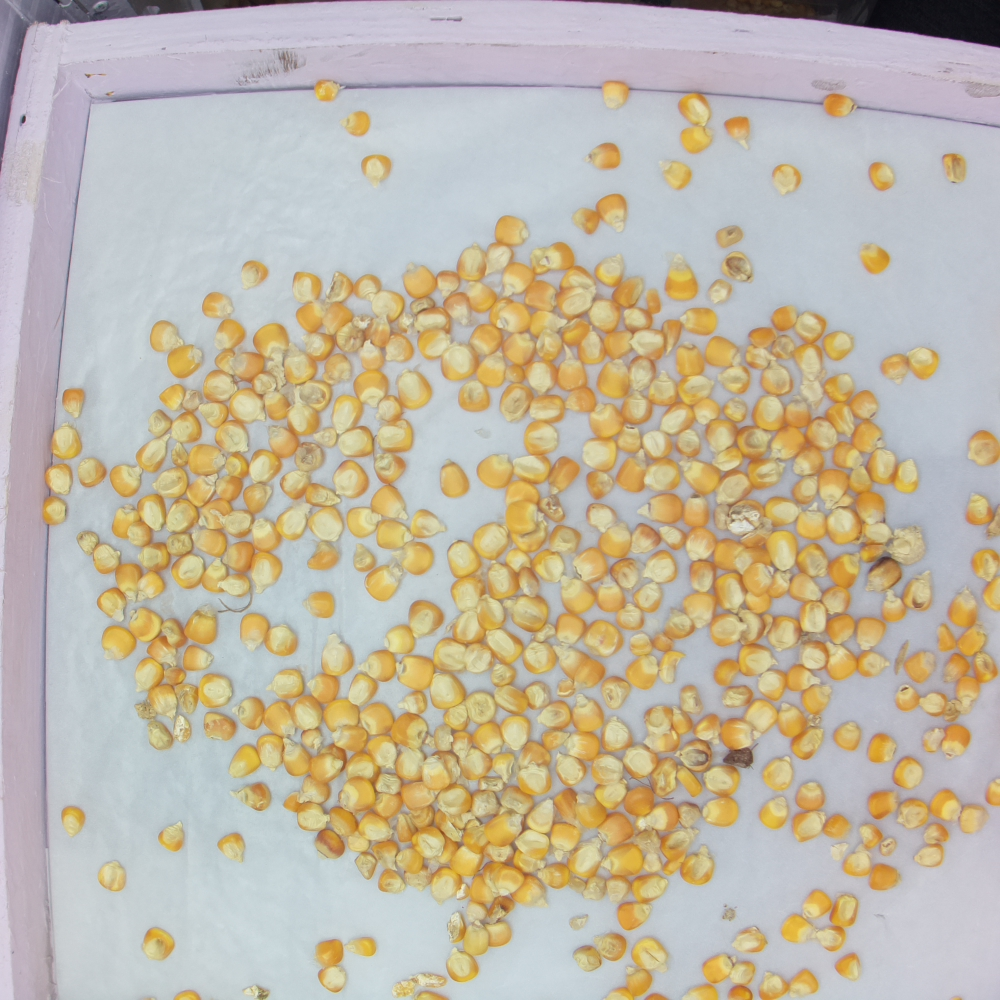corn: (666, 254, 699, 300), (620, 742, 659, 780), (505, 596, 549, 629), (365, 565, 405, 601), (399, 653, 436, 691), (429, 670, 465, 709), (555, 343, 585, 389), (320, 634, 352, 676), (493, 298, 530, 334), (408, 599, 442, 638), (391, 714, 428, 749), (283, 346, 317, 384), (682, 459, 720, 493), (434, 782, 472, 816), (605, 846, 643, 880), (254, 323, 289, 359), (372, 486, 408, 521), (767, 614, 801, 651), (486, 561, 519, 599), (230, 783, 273, 812), (721, 719, 761, 750), (506, 500, 541, 535), (560, 578, 595, 613), (101, 626, 136, 661), (413, 824, 447, 860), (473, 525, 510, 558), (171, 552, 204, 589), (868, 556, 901, 593), (640, 494, 682, 523), (188, 602, 217, 644), (767, 531, 799, 569), (856, 614, 888, 652), (598, 359, 629, 398), (443, 346, 477, 381), (334, 461, 368, 496), (478, 454, 513, 488), (632, 939, 667, 973), (277, 504, 310, 540), (231, 389, 267, 422), (405, 262, 437, 299), (599, 812, 636, 844), (830, 509, 861, 547), (738, 645, 778, 674), (646, 459, 680, 493), (738, 425, 772, 459), (586, 621, 620, 655), (660, 403, 695, 436), (489, 630, 524, 663), (679, 94, 712, 129), (167, 345, 202, 378), (136, 436, 168, 472), (939, 722, 971, 758), (281, 736, 309, 777), (400, 371, 431, 408), (573, 695, 604, 732), (576, 791, 607, 828), (598, 193, 628, 231), (336, 780, 374, 810), (293, 381, 332, 410), (819, 469, 848, 508), (753, 396, 786, 430), (199, 673, 232, 707), (930, 789, 963, 823), (720, 251, 755, 283), (434, 639, 466, 674), (518, 762, 553, 794), (675, 739, 711, 770), (969, 430, 1000, 466), (597, 576, 627, 613), (826, 642, 856, 679), (557, 289, 598, 316), (458, 243, 487, 281), (252, 553, 281, 591), (355, 703, 393, 732), (731, 925, 769, 954), (485, 816, 524, 844), (711, 613, 744, 646), (310, 508, 344, 540), (583, 439, 617, 471), (503, 333, 537, 365), (599, 523, 631, 557), (575, 547, 607, 581), (204, 371, 238, 403), (790, 727, 824, 759), (449, 542, 480, 577), (190, 444, 225, 475), (266, 701, 297, 736), (705, 798, 740, 829), (324, 700, 360, 730), (516, 873, 546, 909), (550, 457, 579, 494), (795, 343, 824, 380), (138, 495, 167, 532), (333, 395, 361, 433), (628, 332, 666, 360), (332, 724, 370, 752), (394, 744, 422, 782), (949, 588, 977, 626), (453, 611, 486, 643), (798, 544, 830, 577), (743, 700, 776, 732), (591, 403, 622, 437), (531, 548, 565, 579), (451, 578, 485, 609), (216, 420, 250, 451), (760, 796, 791, 830), (442, 458, 469, 497), (747, 459, 786, 486), (717, 572, 744, 611), (502, 383, 532, 418), (378, 421, 413, 451), (523, 423, 558, 453), (129, 607, 159, 642), (304, 672, 339, 702), (520, 739, 555, 769), (729, 502, 764, 532), (430, 868, 459, 904), (704, 767, 740, 796), (781, 915, 817, 944), (361, 652, 398, 680), (527, 795, 555, 832), (736, 546, 774, 573), (801, 599, 828, 637), (465, 281, 497, 313), (355, 372, 387, 404), (287, 402, 319, 434), (250, 450, 282, 482), (109, 464, 141, 496), (452, 844, 484, 876), (141, 926, 174, 957), (449, 948, 480, 981), (829, 553, 860, 586), (471, 324, 501, 358), (526, 282, 560, 312), (685, 526, 715, 560), (685, 592, 715, 626), (148, 684, 178, 718), (365, 736, 395, 770), (674, 763, 704, 797), (790, 569, 820, 603), (648, 370, 677, 405), (135, 658, 164, 693), (356, 811, 391, 840), (855, 417, 883, 453), (644, 725, 680, 753), (338, 429, 375, 456), (591, 296, 618, 333), (268, 424, 299, 456), (375, 452, 406, 484), (267, 623, 298, 655), (314, 829, 345, 861), (708, 337, 741, 367), (603, 718, 633, 751), (720, 471, 750, 504), (150, 321, 183, 351), (168, 498, 198, 531), (315, 740, 348, 770), (683, 851, 713, 884), (777, 704, 807, 737), (793, 811, 826, 841), (627, 356, 656, 390), (808, 417, 837, 451), (296, 802, 330, 831), (957, 623, 986, 657), (676, 342, 704, 377), (868, 449, 896, 484), (568, 847, 603, 875), (592, 933, 627, 961), (554, 788, 579, 827), (677, 377, 713, 404), (528, 395, 564, 422), (513, 454, 549, 481), (511, 523, 547, 550), (218, 508, 254, 535), (628, 657, 659, 688), (373, 291, 403, 323), (404, 542, 434, 574), (280, 470, 312, 500), (707, 420, 737, 452), (508, 481, 540, 511), (645, 552, 677, 582), (765, 497, 797, 527), (172, 413, 202, 445), (272, 669, 304, 699), (293, 698, 323, 730), (501, 786, 533, 816), (596, 778, 628, 808), (764, 757, 794, 789), (617, 458, 646, 491), (603, 677, 632, 710), (659, 160, 692, 189), (772, 428, 805, 457), (52, 425, 81, 458), (98, 588, 127, 621), (420, 755, 449, 788), (528, 361, 556, 395), (518, 831, 552, 859), (652, 760, 677, 798), (300, 332, 335, 359), (561, 266, 596, 293), (578, 330, 605, 365), (681, 308, 717, 334), (497, 215, 527, 246), (442, 294, 472, 325), (550, 522, 580, 553), (155, 467, 186, 497), (235, 698, 265, 729), (204, 712, 235, 742), (385, 624, 415, 655), (474, 722, 504, 753), (554, 755, 585, 785), (502, 716, 531, 748), (867, 791, 899, 820), (897, 798, 929, 827), (413, 308, 450, 333), (502, 262, 530, 295), (495, 686, 528, 714), (857, 491, 885, 524), (193, 527, 226, 555), (309, 756, 342, 784), (894, 756, 922, 789), (413, 510, 447, 537), (478, 596, 505, 630), (116, 564, 143, 598), (618, 902, 652, 929), (377, 521, 412, 547), (857, 651, 892, 677), (460, 382, 490, 412), (680, 126, 716, 151), (114, 505, 139, 541), (592, 753, 622, 783), (479, 861, 509, 891), (867, 733, 897, 763), (903, 653, 933, 683), (906, 573, 931, 609), (908, 347, 937, 378), (762, 363, 791, 394), (201, 500, 232, 529), (230, 745, 259, 776), (651, 802, 680, 833), (419, 331, 451, 359), (325, 305, 353, 337), (545, 242, 577, 270), (327, 806, 359, 834), (568, 733, 601, 760), (138, 543, 171, 570), (172, 681, 199, 714), (786, 664, 819, 691), (529, 310, 566, 334), (259, 733, 283, 770), (537, 703, 572, 728), (204, 558, 229, 593), (586, 502, 616, 531), (98, 861, 128, 890), (460, 748, 489, 778), (626, 788, 656, 817), (435, 812, 465, 841), (759, 970, 788, 1000), (347, 508, 378, 536), (571, 208, 602, 236), (623, 393, 651, 424), (632, 522, 660, 553), (146, 637, 177, 665), (702, 955, 733, 983), (308, 542, 340, 569), (524, 644, 556, 671), (349, 673, 376, 705), (829, 402, 855, 435), (241, 615, 267, 648), (345, 753, 378, 779), (739, 611, 765, 644), (633, 877, 670, 900), (480, 353, 505, 387), (721, 364, 750, 393), (773, 164, 802, 193), (292, 272, 320, 302), (485, 243, 513, 273), (295, 303, 325, 331), (643, 429, 671, 459), (636, 581, 664, 611), (577, 659, 605, 689), (861, 242, 889, 272), (232, 352, 262, 380), (79, 457, 107, 487), (758, 670, 786, 700), (796, 782, 826, 810), (960, 806, 990, 834), (605, 331, 636, 358), (468, 691, 495, 722), (793, 447, 824, 474), (305, 590, 336, 617), (957, 674, 979, 712), (744, 563, 770, 595), (327, 272, 352, 305), (660, 650, 685, 683), (883, 589, 907, 623), (399, 784, 436, 806), (295, 441, 323, 470), (611, 560, 639, 589), (666, 609, 694, 638), (464, 644, 493, 672), (215, 320, 244, 348), (484, 917, 512, 946), (800, 642, 828, 671), (616, 277, 643, 307), (46, 464, 73, 494), (393, 810, 420, 840), (662, 830, 692, 857), (716, 539, 743, 569), (823, 584, 850, 614), (917, 691, 947, 718), (626, 968, 653, 998), (597, 255, 623, 286), (537, 330, 563, 361), (160, 617, 186, 648), (815, 927, 846, 953), (590, 143, 622, 168), (470, 873, 495, 905), (538, 864, 570, 889), (968, 492, 993, 524), (262, 391, 290, 419), (226, 543, 254, 571), (557, 613, 584, 642), (556, 648, 585, 675), (798, 313, 825, 342), (824, 332, 853, 359), (188, 476, 215, 505), (138, 572, 165, 601), (405, 863, 434, 890), (696, 714, 723, 743), (804, 890, 831, 919), (831, 897, 858, 926), (394, 690, 428, 713), (465, 922, 488, 956), (245, 483, 271, 513), (93, 545, 119, 575), (463, 823, 489, 853), (722, 682, 752, 708), (834, 721, 860, 751), (437, 831, 458, 868), (299, 777, 330, 802), (472, 787, 497, 818), (974, 550, 999, 581), (306, 483, 341, 505), (896, 458, 918, 493), (148, 719, 172, 751), (868, 865, 900, 889), (740, 522, 773, 545), (241, 261, 268, 289), (603, 81, 631, 108), (882, 355, 909, 383), (803, 685, 831, 712), (386, 337, 415, 363), (254, 520, 280, 549), (683, 495, 708, 525), (204, 293, 234, 318), (690, 561, 714, 592), (943, 152, 967, 183), (218, 834, 245, 861), (374, 790, 401, 817), (358, 340, 384, 368), (852, 389, 878, 417), (216, 473, 242, 501), (371, 840, 397, 868), (844, 851, 872, 877), (835, 952, 861, 980), (343, 111, 372, 136), (316, 940, 345, 965), (325, 352, 349, 382), (662, 319, 683, 353), (786, 397, 809, 428), (182, 646, 213, 669), (405, 803, 436, 826), (825, 93, 857, 115), (365, 318, 392, 344), (827, 373, 854, 399), (350, 851, 377, 877), (552, 822, 578, 849), (584, 875, 611, 901), (790, 969, 817, 995), (362, 154, 390, 179), (353, 275, 381, 300), (725, 118, 750, 146), (870, 163, 895, 191), (836, 440, 861, 468), (512, 852, 547, 872), (943, 655, 967, 684), (680, 684, 701, 717), (567, 388, 597, 411), (62, 807, 85, 837), (974, 653, 997, 683), (913, 844, 944, 866), (337, 324, 363, 350), (445, 702, 471, 728), (379, 395, 404, 422), (618, 425, 643, 452), (588, 471, 613, 498), (659, 525, 686, 550), (791, 476, 816, 503), (826, 814, 853, 839), (199, 403, 227, 427), (159, 822, 183, 850), (829, 616, 853, 644), (713, 448, 742, 471), (519, 566, 540, 597), (280, 792, 311, 813), (922, 824, 953, 845), (497, 868, 522, 894), (618, 602, 642, 629), (160, 384, 184, 411), (224, 453, 248, 480), (375, 773, 402, 797), (378, 869, 405, 893), (895, 684, 919, 711), (354, 545, 377, 573), (148, 410, 171, 438), (43, 496, 66, 524), (670, 707, 693, 735), (623, 308, 652, 330), (936, 623, 957, 653), (436, 271, 461, 296), (214, 349, 239, 374), (714, 658, 739, 683), (564, 317, 588, 343), (575, 946, 601, 970), (319, 968, 345, 992), (677, 428, 700, 455), (746, 347, 773, 370), (396, 849, 423, 872), (491, 751, 514, 778), (488, 896, 519, 916), (170, 714, 191, 743), (298, 730, 327, 751), (648, 708, 672, 733), (349, 937, 379, 957), (542, 495, 565, 521), (801, 379, 824, 405), (219, 575, 250, 594), (63, 389, 84, 417), (744, 591, 772, 612), (749, 328, 778, 348), (165, 534, 194, 554), (529, 249, 553, 273), (77, 531, 100, 556), (639, 827, 661, 853), (528, 682, 549, 709), (729, 962, 756, 983), (770, 569, 790, 597), (486, 846, 517, 864), (773, 306, 796, 330), (860, 825, 882, 850), (315, 80, 341, 101), (693, 400, 719, 421), (452, 731, 471, 759), (864, 525, 892, 544), (708, 281, 732, 303), (723, 398, 747, 420), (629, 633, 653, 655), (774, 335, 795, 360), (127, 524, 152, 545), (608, 879, 633, 900), (922, 728, 943, 753), (447, 916, 465, 945), (393, 978, 419, 998), (543, 728, 570, 747), (492, 663, 515, 685), (253, 372, 276, 394), (430, 727, 452, 750), (507, 549, 531, 570), (850, 466, 870, 491), (984, 579, 1000, 610), (267, 363, 286, 389), (718, 225, 741, 246), (170, 444, 191, 467), (680, 802, 701, 825), (666, 852, 687, 875), (313, 427, 337, 447), (417, 974, 448, 989), (504, 363, 526, 383), (712, 505, 731, 528), (643, 852, 662, 874), (644, 289, 661, 313), (863, 543, 887, 560), (534, 623, 554, 643), (163, 667, 186, 684), (345, 835, 371, 850), (410, 298, 434, 314), (138, 701, 157, 721), (478, 776, 505, 790), (184, 391, 200, 414), (467, 904, 489, 920), (654, 633, 673, 651), (557, 681, 576, 698), (397, 315, 413, 333), (175, 989, 200, 999), (456, 883, 470, 898)
